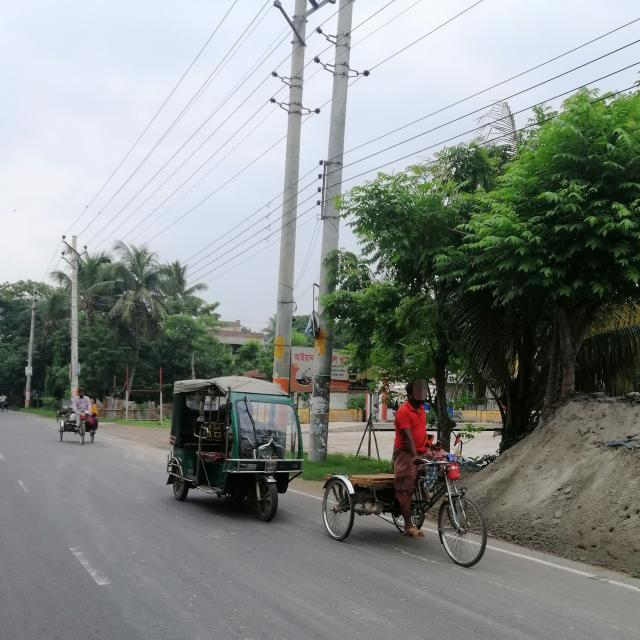Easybike: (166, 379, 306, 525)
Van: (319, 463, 492, 569)
